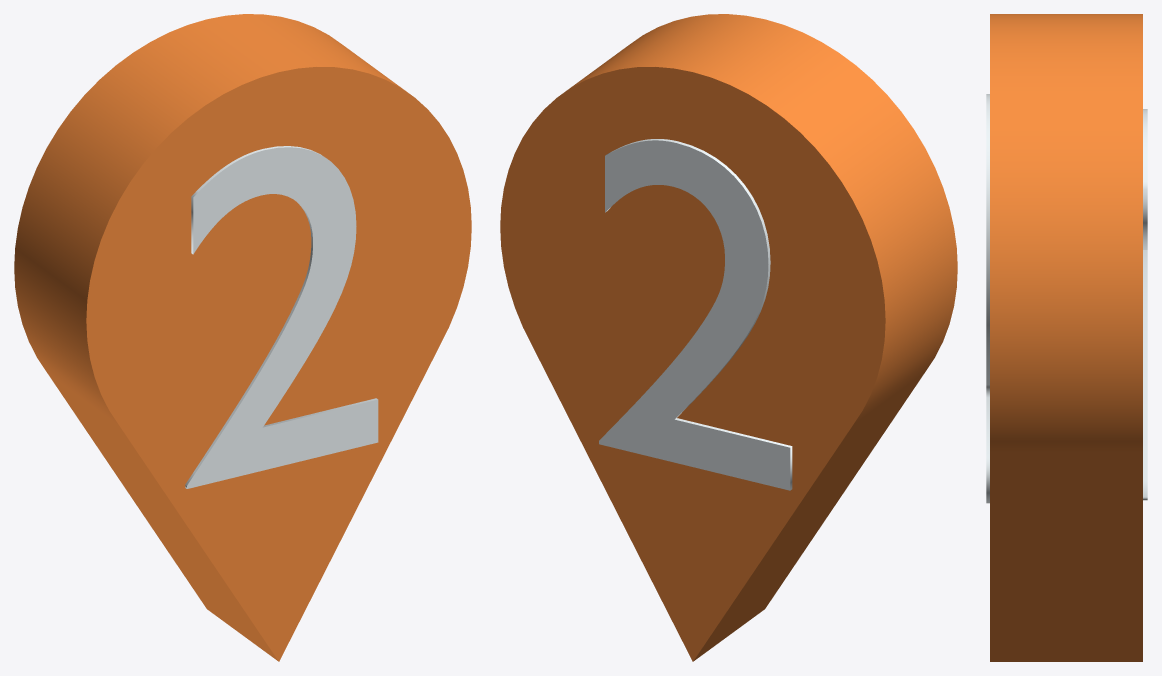
Rendered from denki_pin.glb.
3 renders of one model, left to right at view 1: azimuth 30°, elevation 25°; view 2: azimuth 150°, elevation 25°; view 3: azimuth 270°, elevation 25°, orthographic. The views are drawn at different scales.
Visible parts, largest first — view 1: 円.014, テキスト.035; view 2: 円.014, テキスト.034; view 3: 円.014, テキスト.034, テキスト.035.
Part boxes in pixels (x1,y1,x2,y2): 円.014: (14, 14, 471, 661); テキスト.035: (185, 146, 378, 488); 円.014: (500, 14, 957, 661); テキスト.034: (599, 139, 792, 490); 円.014: (990, 14, 1142, 661); テキスト.034: (1143, 109, 1147, 500); テキスト.035: (986, 94, 989, 503).
Size of the model in its own units: 2 by 2.92 by 0.6844.
3 materials, 3 textured.
